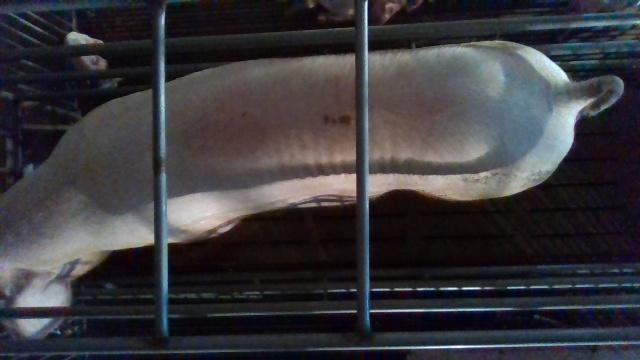piglet: (65, 32, 122, 88)
sow-stand-feed: (0, 42, 624, 339)
